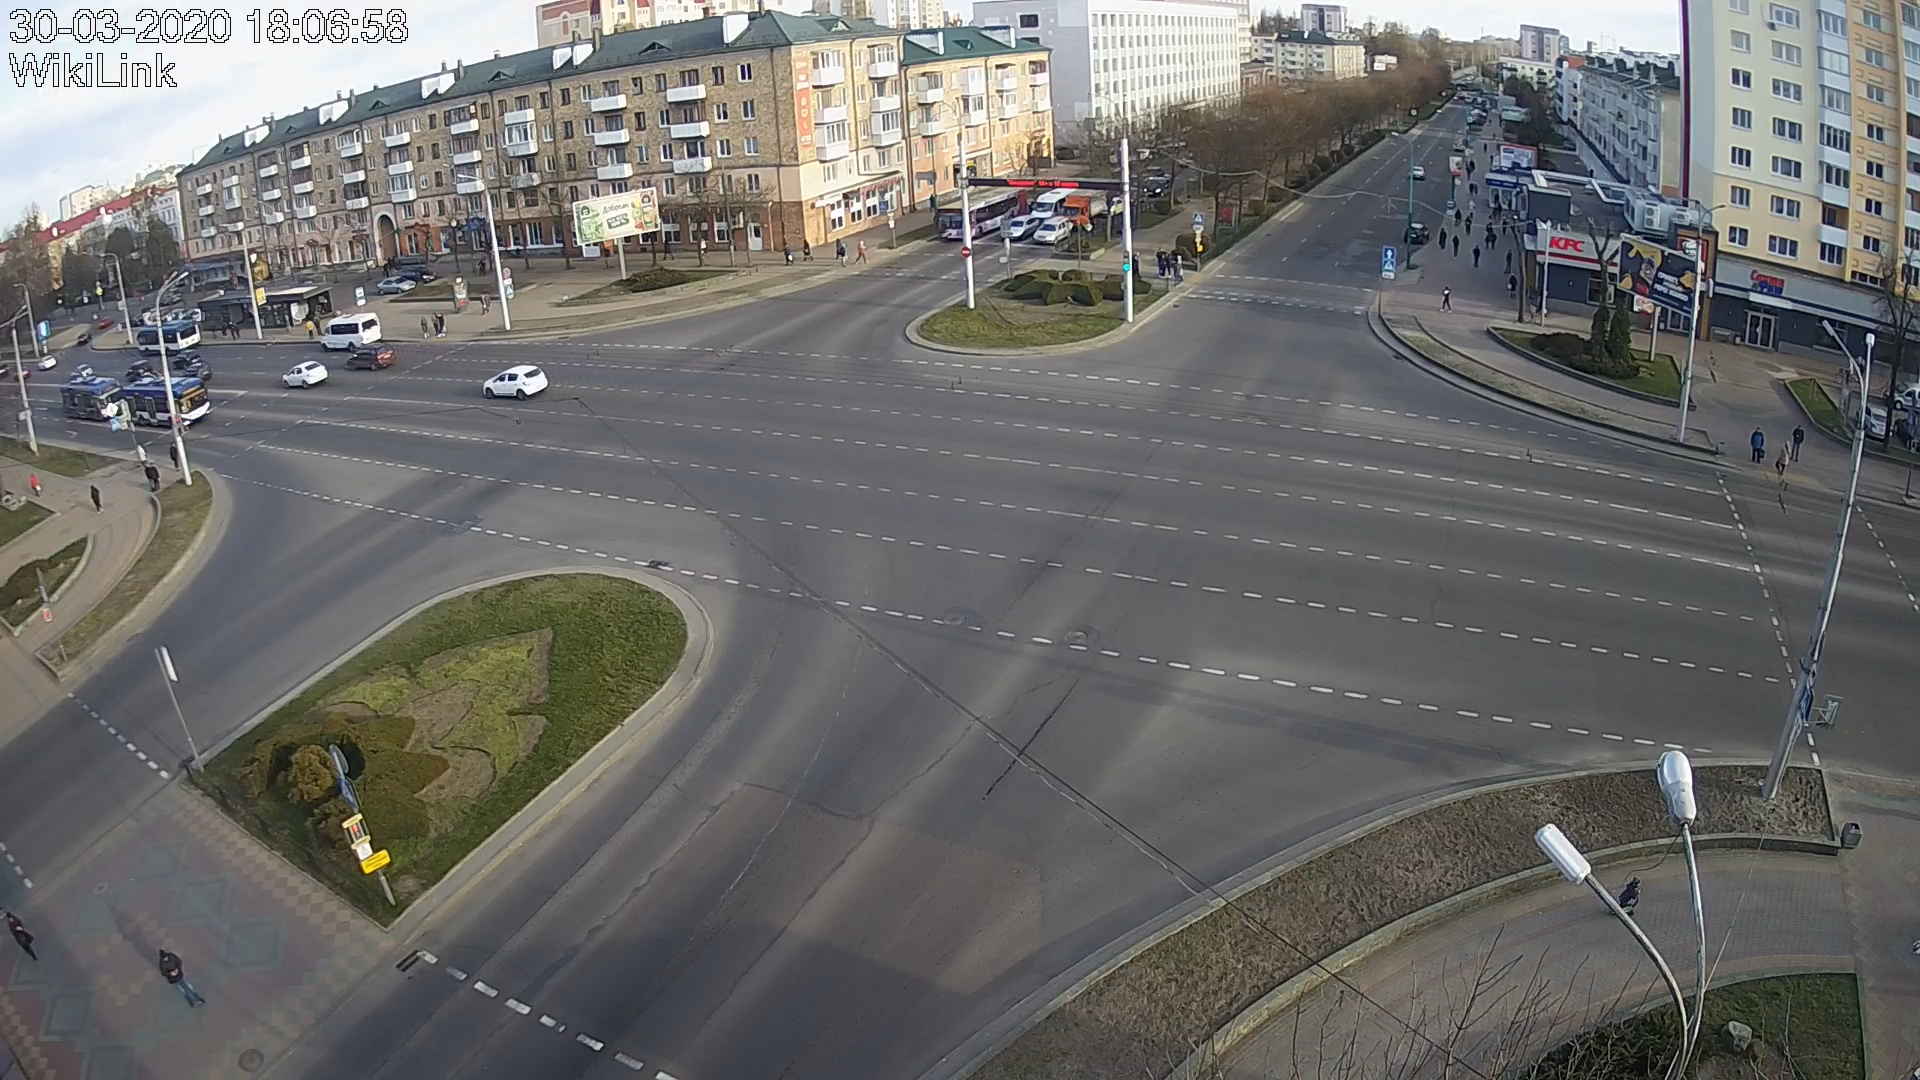bus: (940, 187, 1029, 239), (125, 376, 210, 427), (61, 376, 123, 419), (137, 320, 200, 355)
car: (320, 313, 382, 352), (483, 364, 549, 400), (345, 343, 397, 371), (282, 361, 328, 389), (1033, 216, 1071, 244), (1010, 214, 1038, 239)
